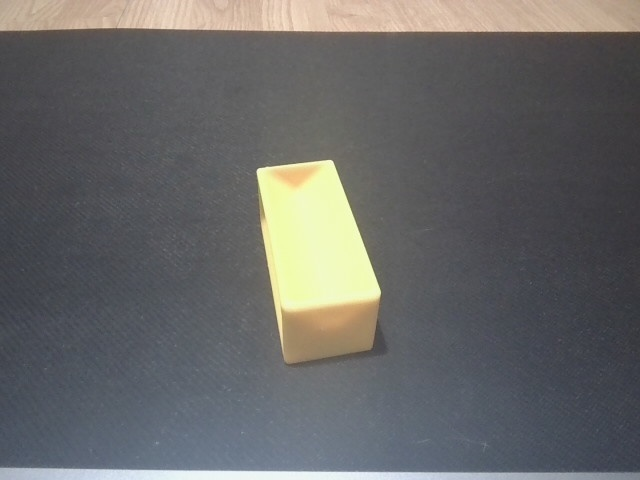YellowSample: (247, 156, 386, 371)
